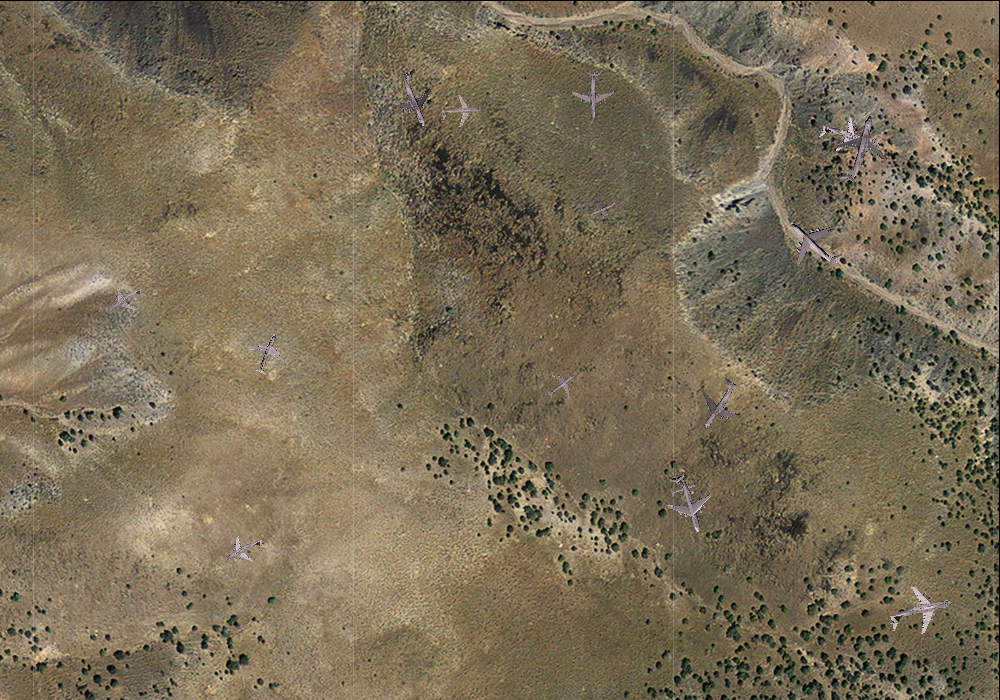plane: (773, 202, 855, 284), (820, 107, 897, 190), (681, 366, 756, 442), (883, 576, 960, 648), (653, 467, 722, 540), (381, 62, 449, 134), (813, 106, 876, 166), (216, 525, 271, 578), (240, 326, 293, 380), (99, 274, 152, 326), (571, 70, 616, 118), (538, 362, 583, 407), (440, 92, 482, 131), (585, 189, 622, 225), (666, 472, 701, 505)
